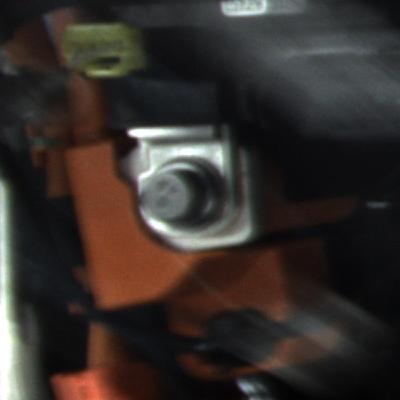nut_b: (134, 148, 232, 234)
